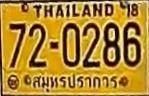0: (62, 22, 79, 66)
2: (28, 23, 45, 67), (82, 23, 99, 66)
6: (123, 21, 140, 66)
7: (9, 23, 25, 67)
8: (102, 22, 119, 66)
SPK: (27, 71, 119, 91)
